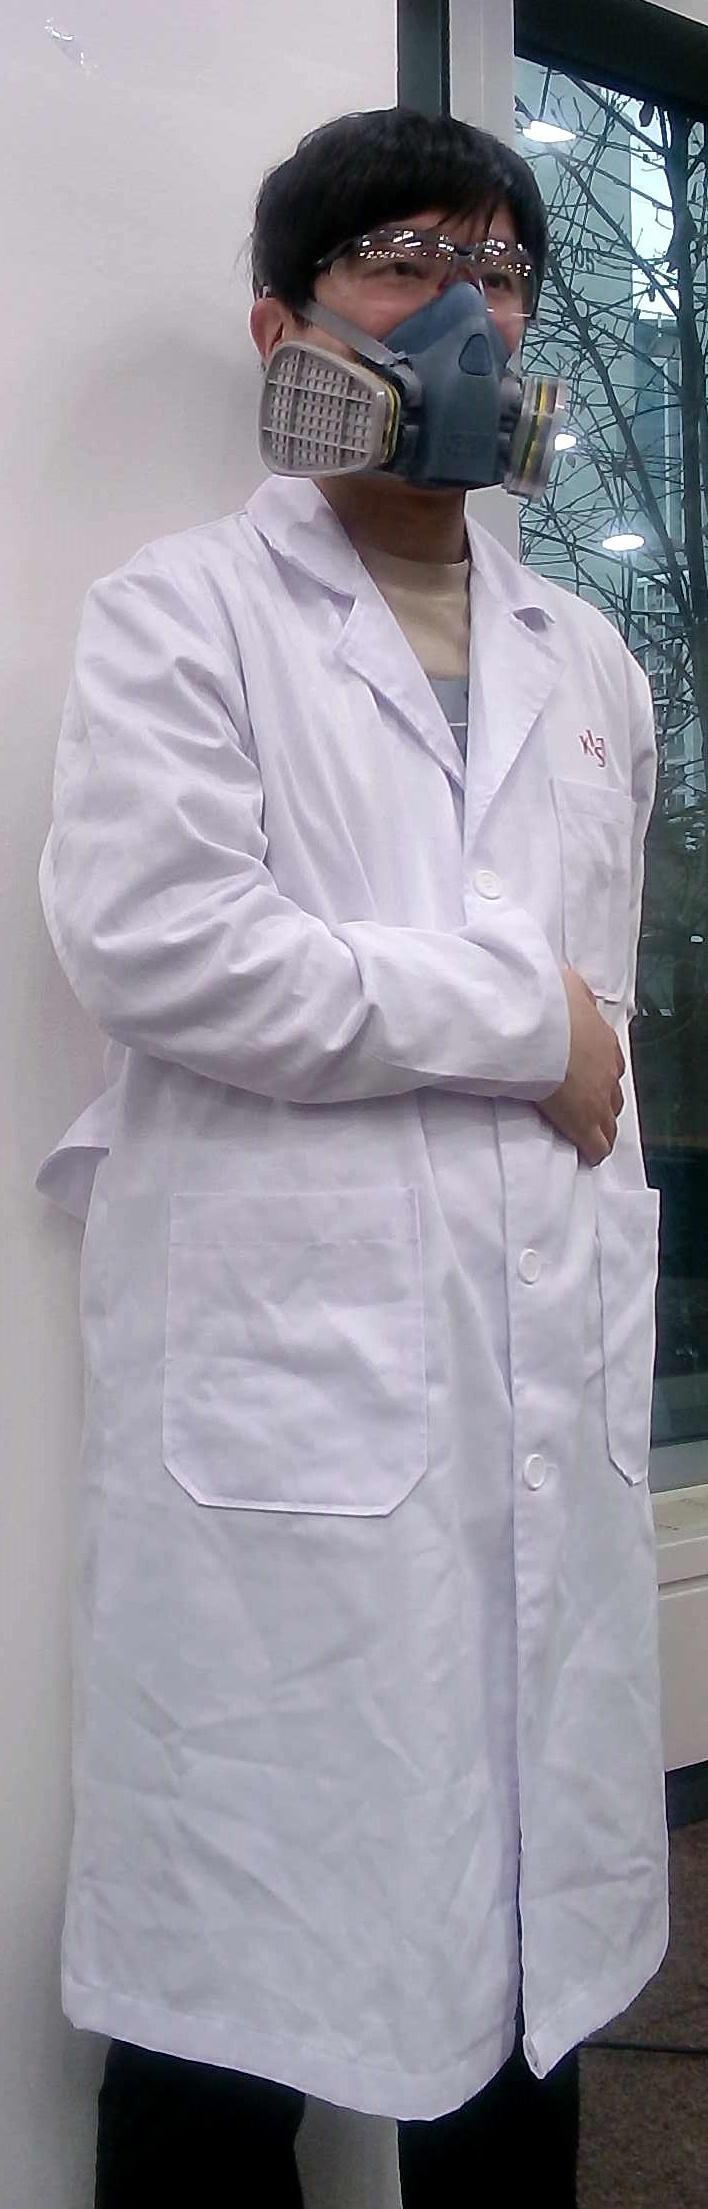lab_coat: (25, 528, 669, 2086)
